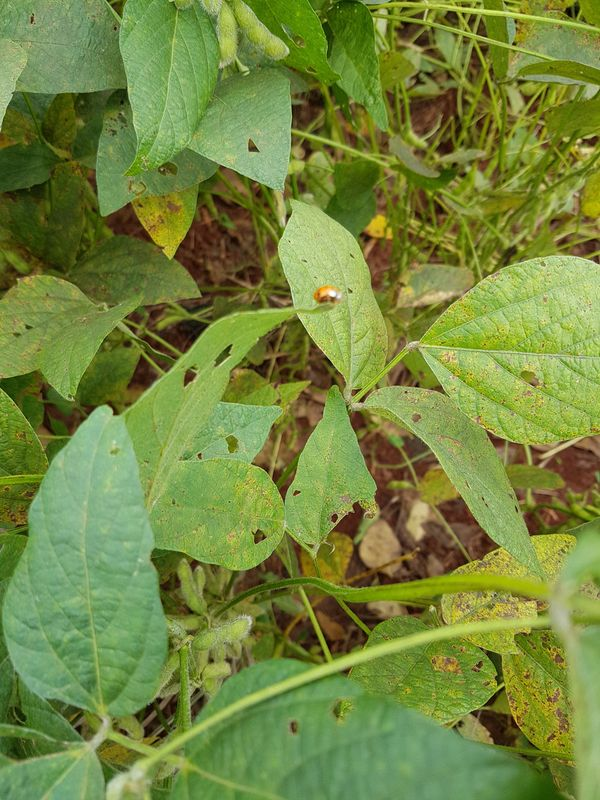Coccinellidae: (306, 277, 349, 313)
